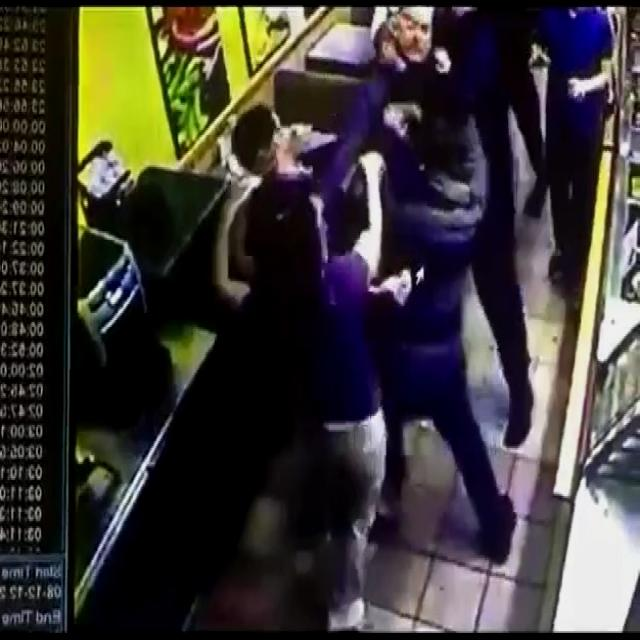fight: (364, 2, 506, 560), (276, 91, 485, 401)
